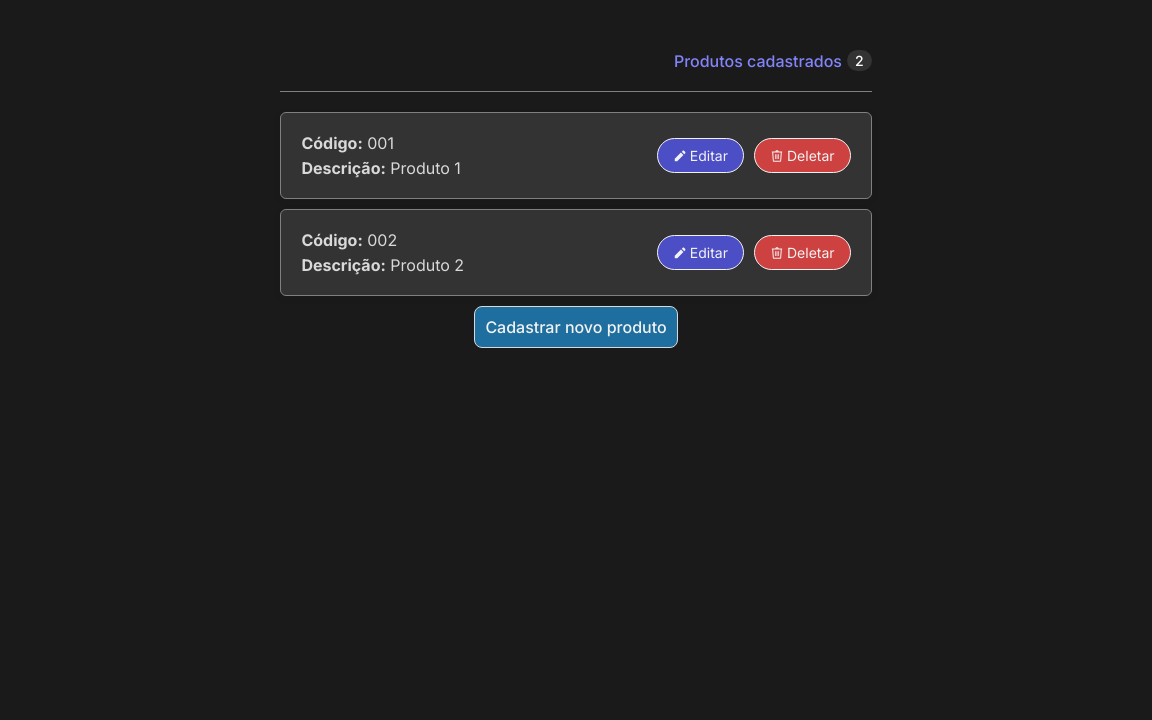
it: Home › should show modal when clicking in the register product button
The image size is (1152, 720).
Expected: the text "Cadastrar produto" is not shown
What coordinates should you click on to do the following:
click the button "Cadastrar novo produto"
I would click on:
 (576, 327)
Its box is [474,306,678,348].
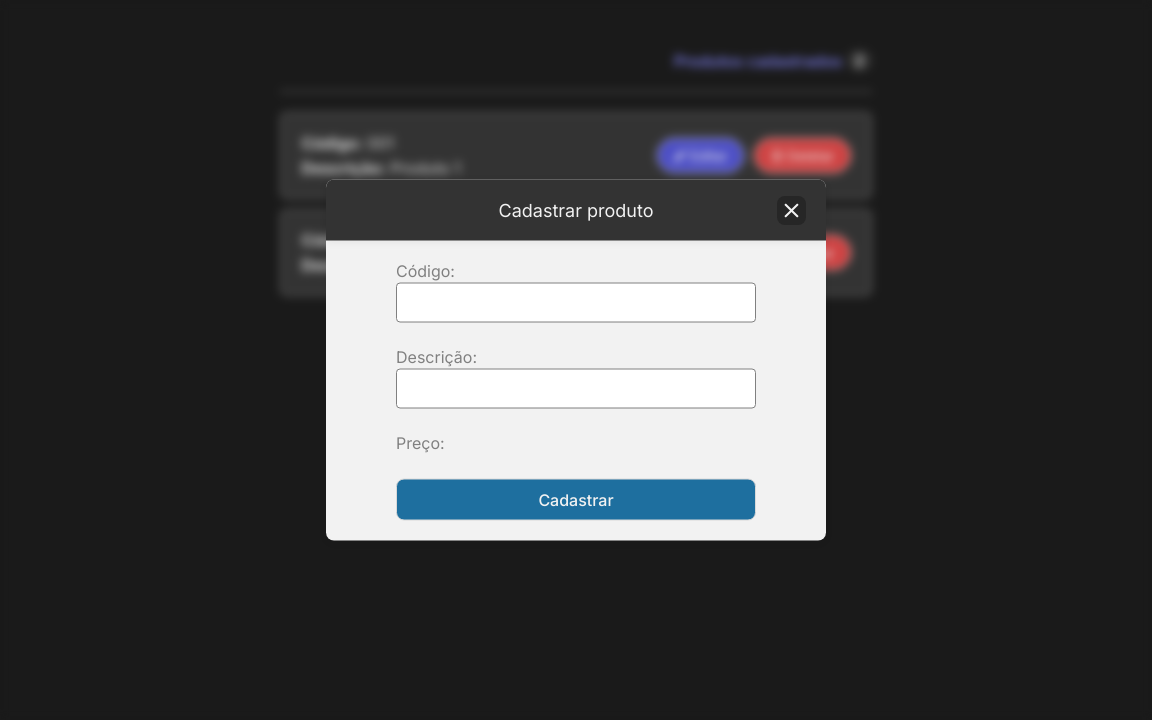
Now the heading "Cadastrar produto" is shown, box [498,200,654,220]
